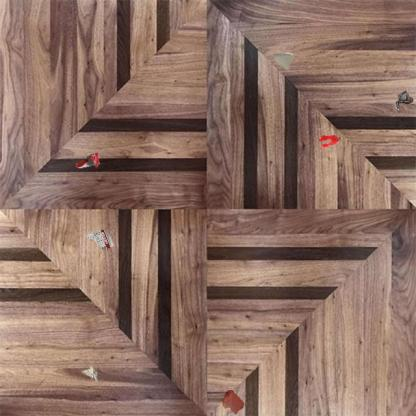dirty: (85, 226, 115, 253), (391, 88, 415, 115), (74, 151, 102, 170), (272, 50, 293, 70), (80, 364, 100, 384)
liquid: (220, 389, 245, 415), (318, 134, 339, 151)
